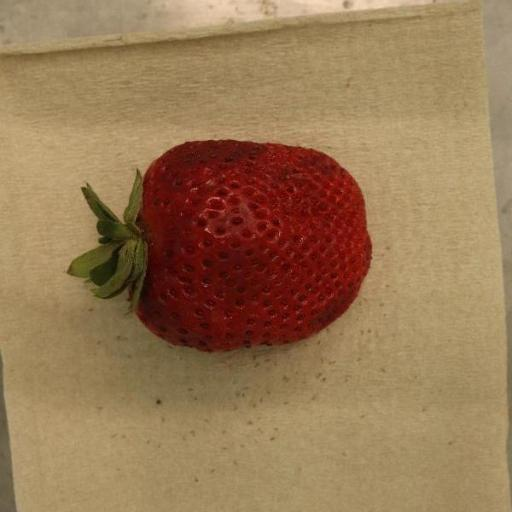Strawberry: (66, 140, 372, 353)
